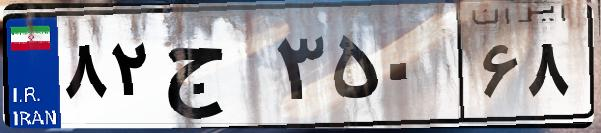0: (385, 28, 445, 110)
2: (110, 28, 158, 98)
3: (270, 28, 330, 110)
5: (330, 28, 385, 110)
6: (475, 38, 525, 113)
8: (57, 26, 110, 100), (525, 38, 570, 115)
ج: (158, 20, 270, 120)
